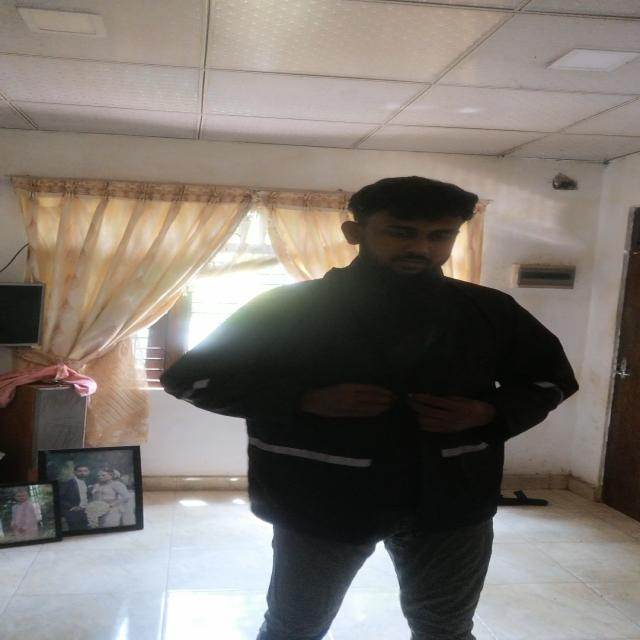Jacket_Wearer: (156, 260, 582, 546)
Person: (158, 175, 580, 640)
